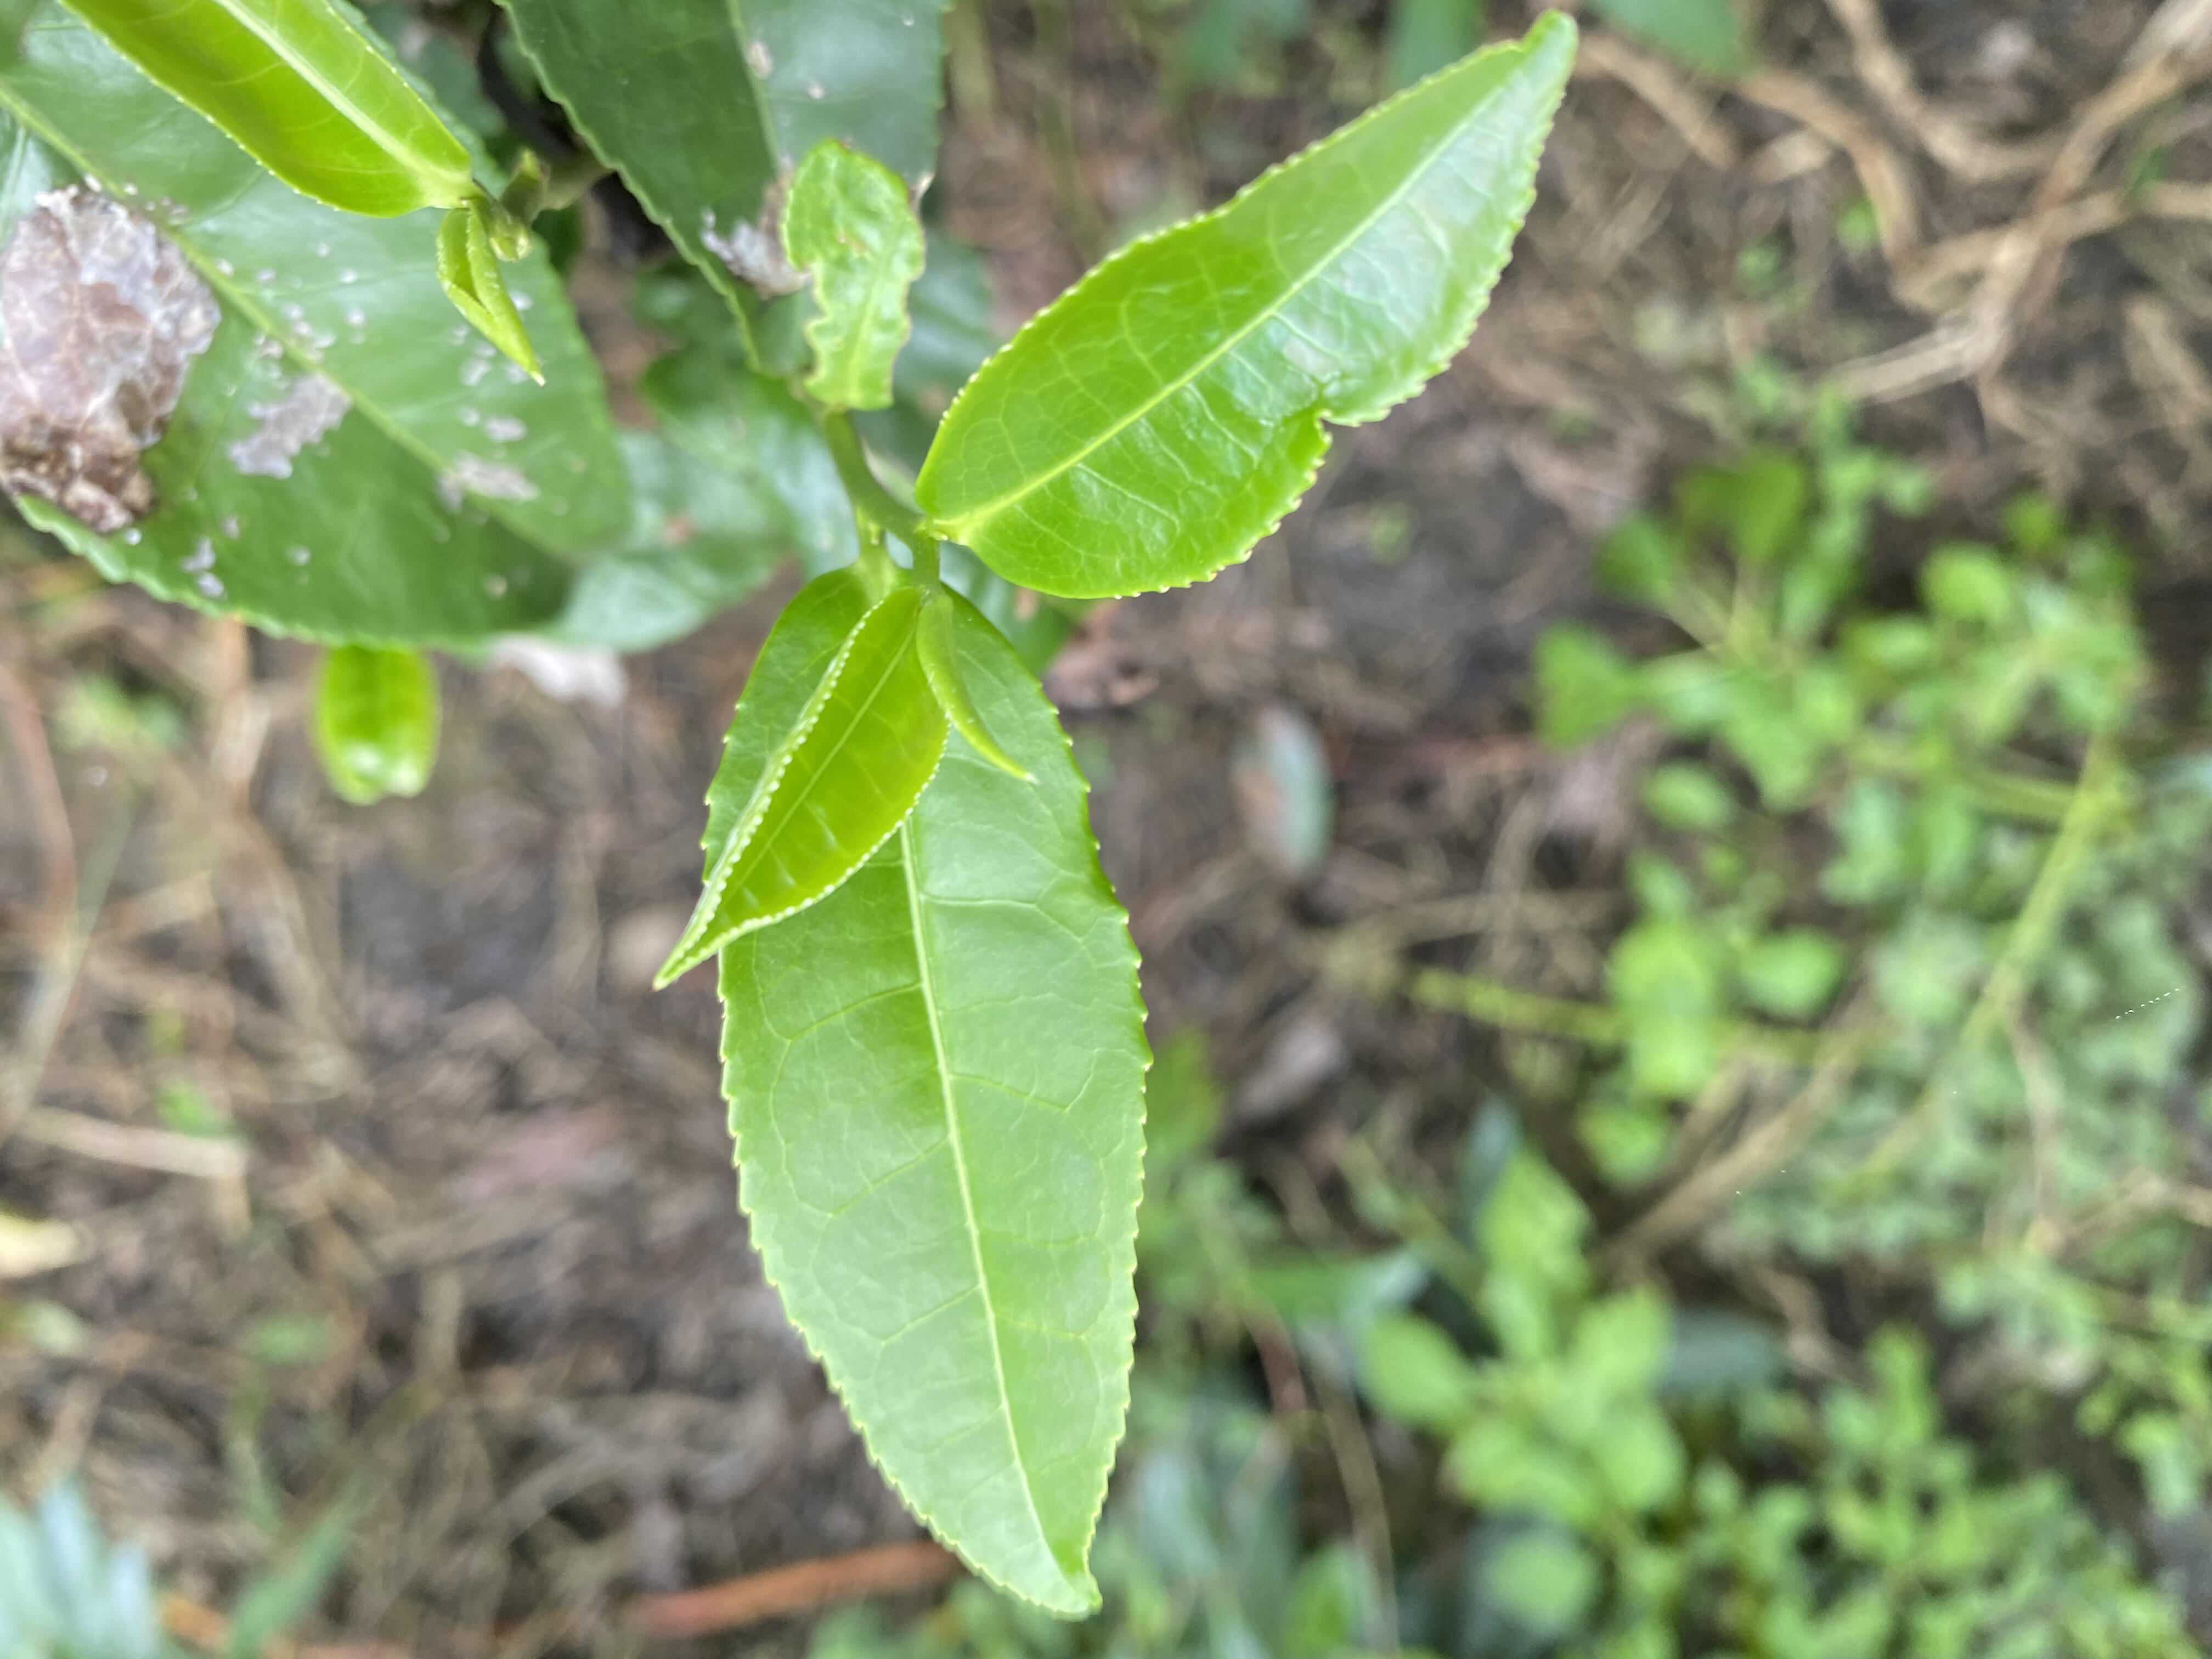chihuo_high: (782, 138, 930, 415)
chihuo_low: (916, 9, 1580, 603)
healthy: (700, 563, 1157, 1619), (651, 586, 951, 988), (61, 3, 474, 216)
tanju_high: (3, 2, 636, 655), (498, 3, 954, 382)
